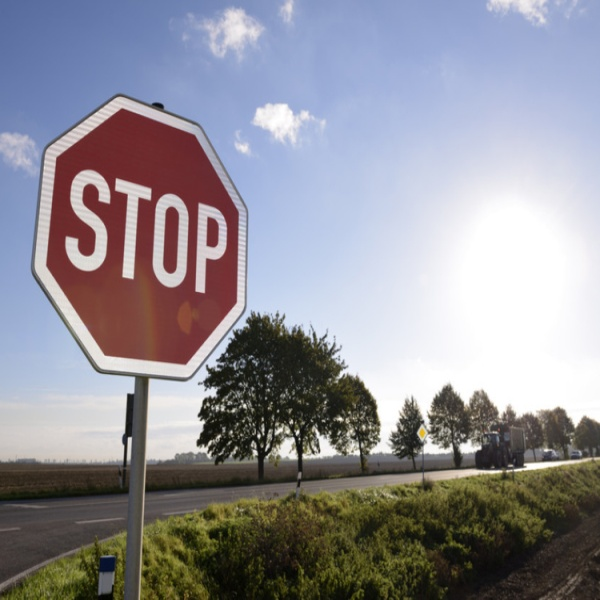stop: (36, 96, 244, 377)
